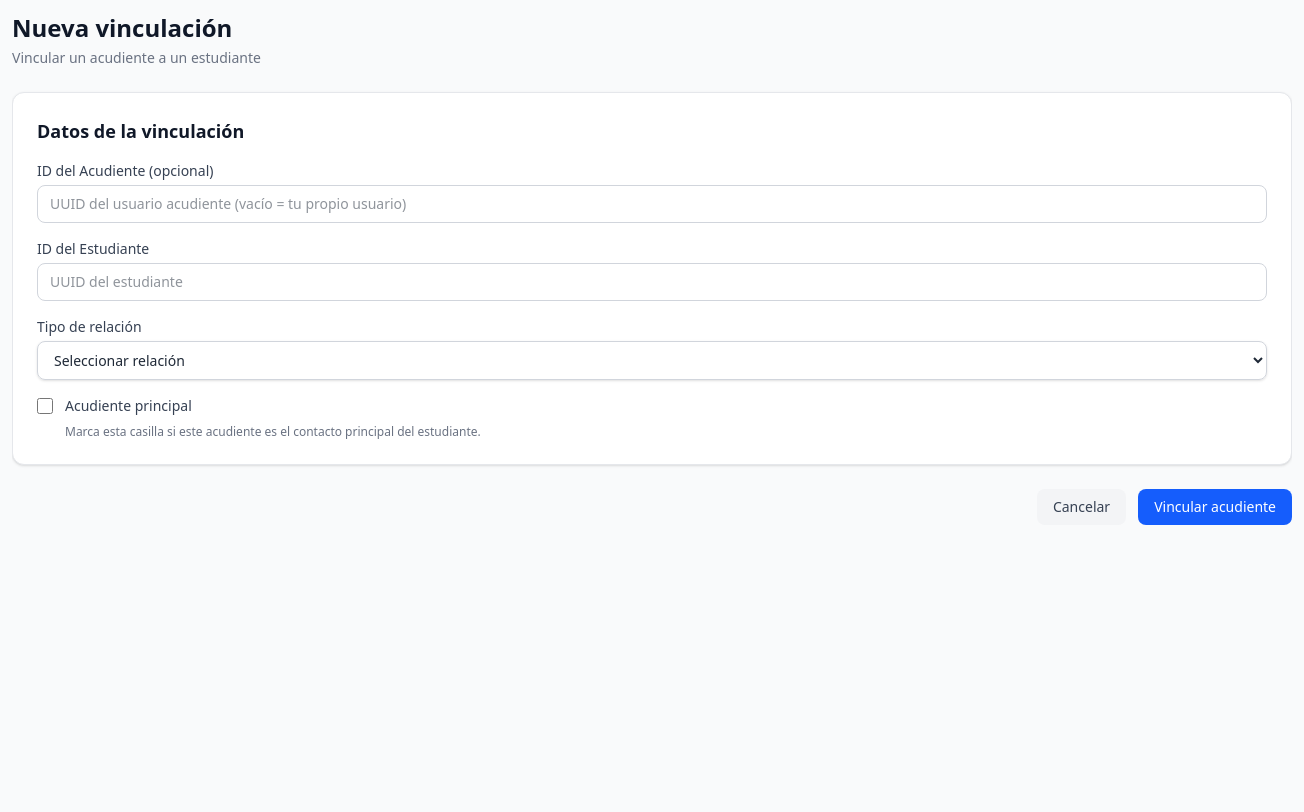
Test: GuardiansFormPage › validates UUID format
The image size is (1304, 812).
Type "not-a-uuid" into the field labelled "ID del Estudiante" at coordinates (652, 282), box [37,263,1267,301]
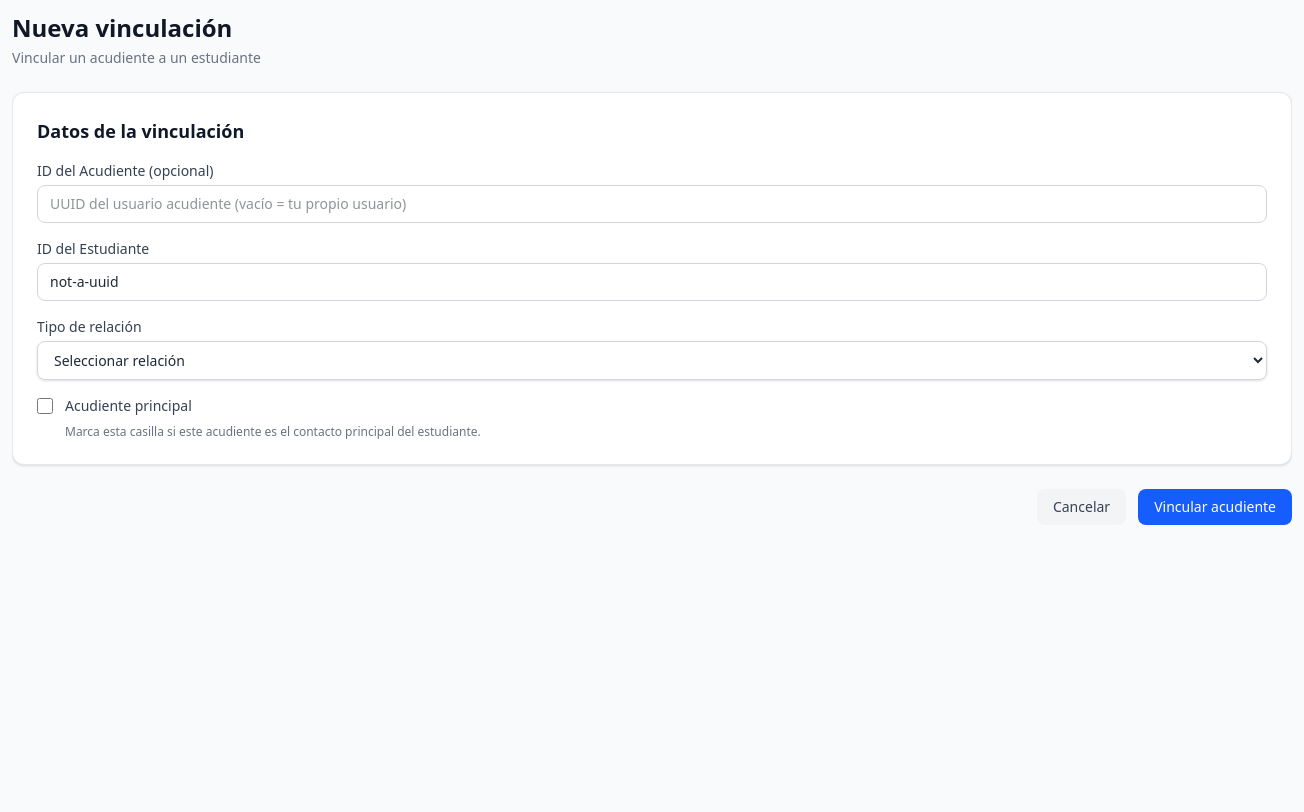
Click the button "Vincular acudiente" at coordinates (1215, 507), box [1138,489,1292,525]
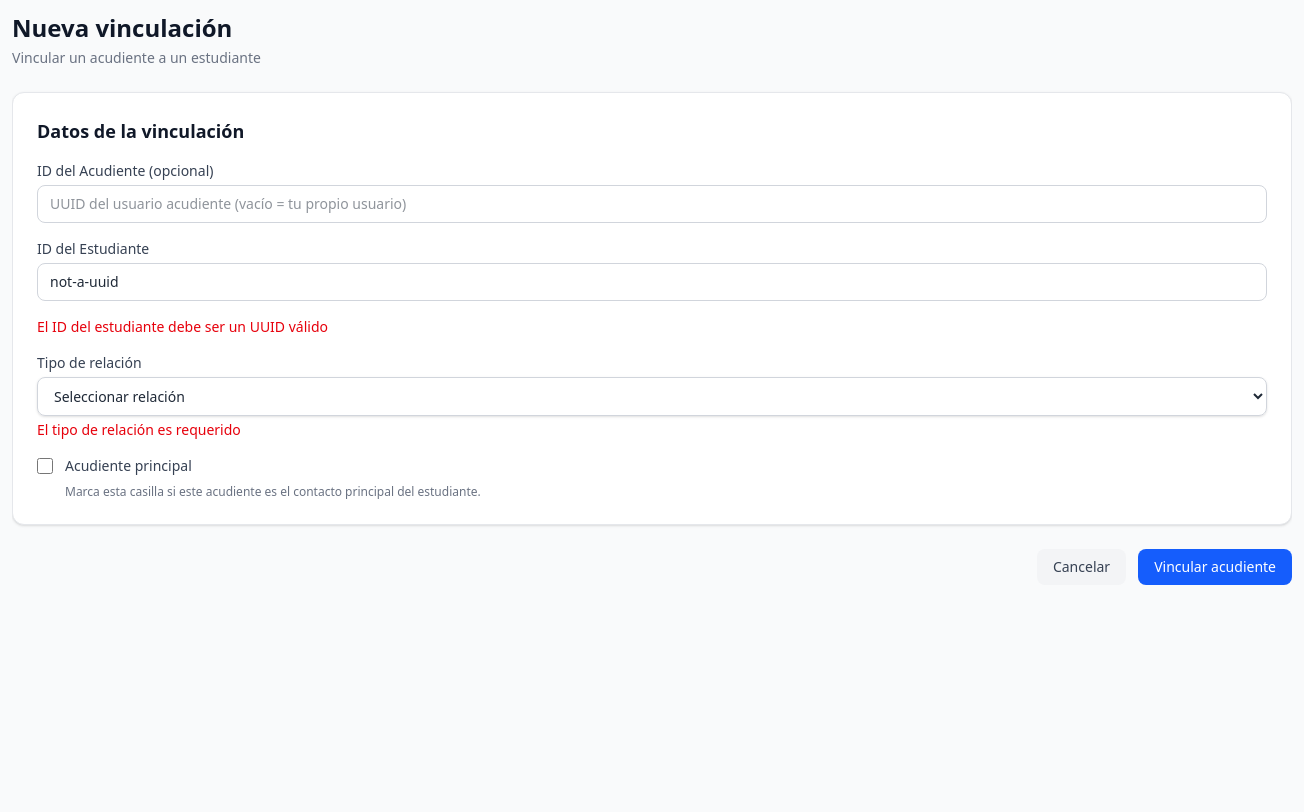
Expected: the text "El ID del estudiante debe ser un UUID válido" is shown, [37,317,328,336]
